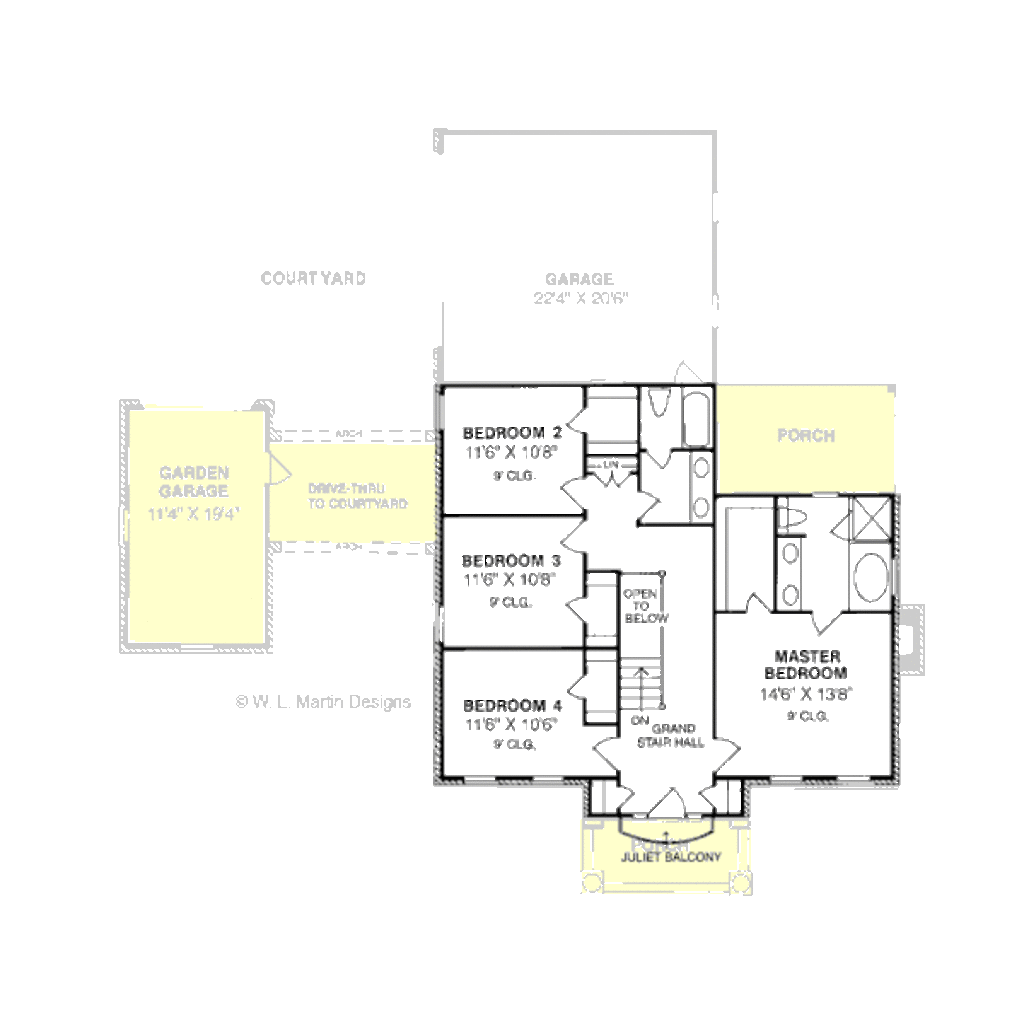door: (710, 731, 745, 772), (589, 734, 623, 774), (558, 515, 590, 556), (634, 485, 662, 529), (563, 403, 592, 443), (560, 475, 588, 516), (594, 468, 633, 496), (740, 592, 775, 623), (649, 787, 684, 817), (564, 593, 591, 628), (807, 610, 844, 635), (641, 443, 675, 470), (563, 671, 588, 703)
large_sink: (639, 384, 676, 428), (772, 496, 814, 534)
small_sink: (685, 451, 714, 525), (776, 535, 804, 610)
stairs: (618, 570, 667, 725)
tub: (846, 542, 893, 609), (677, 383, 712, 448)
window: (428, 599, 449, 649), (430, 383, 449, 438), (762, 770, 811, 791), (454, 773, 501, 789), (531, 773, 567, 793), (834, 776, 879, 787)
